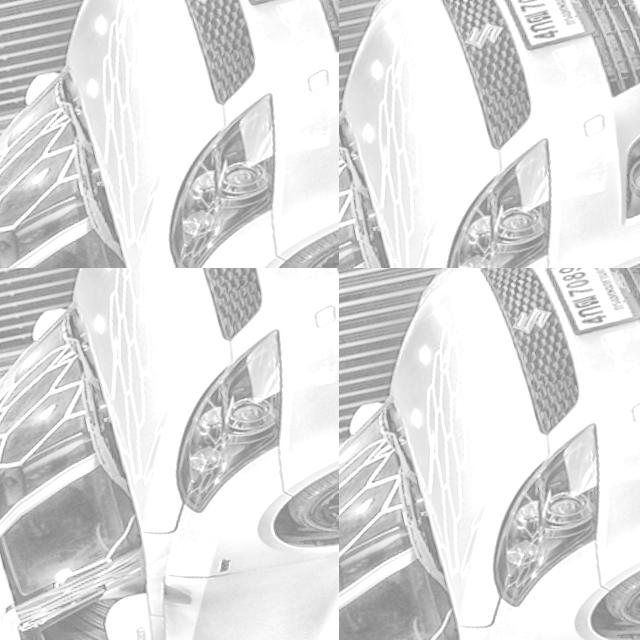license-plate: (0, 562, 165, 640), (540, 268, 640, 339)
